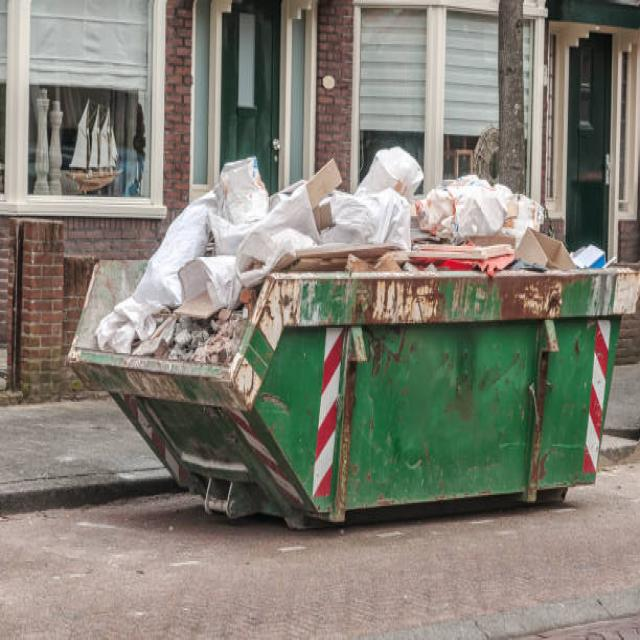metal: (229, 254, 627, 537)
trash: (126, 150, 538, 282)
